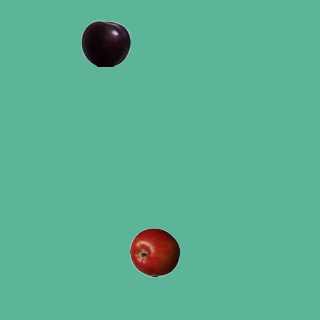Apple Braeburn: (129, 227, 179, 277)
Cherry Wax Black: (80, 18, 130, 68)
